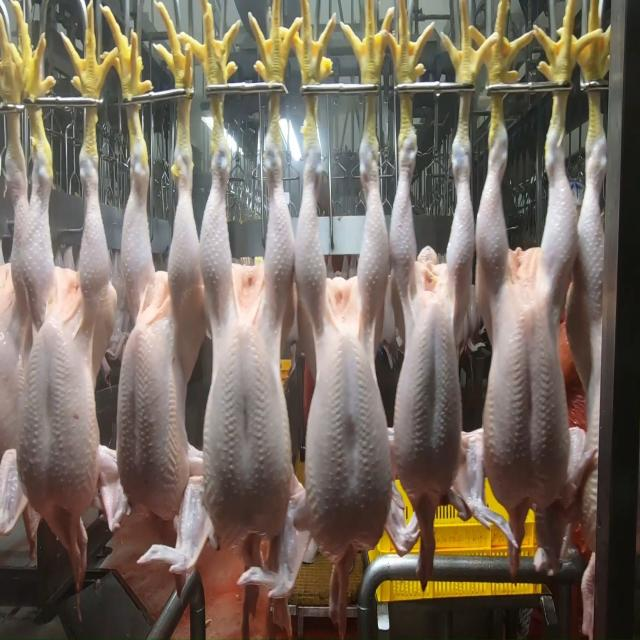chicken: (296, 138, 402, 556), (202, 133, 301, 544), (483, 135, 580, 520), (15, 155, 107, 522), (398, 130, 472, 506), (122, 151, 192, 522)
